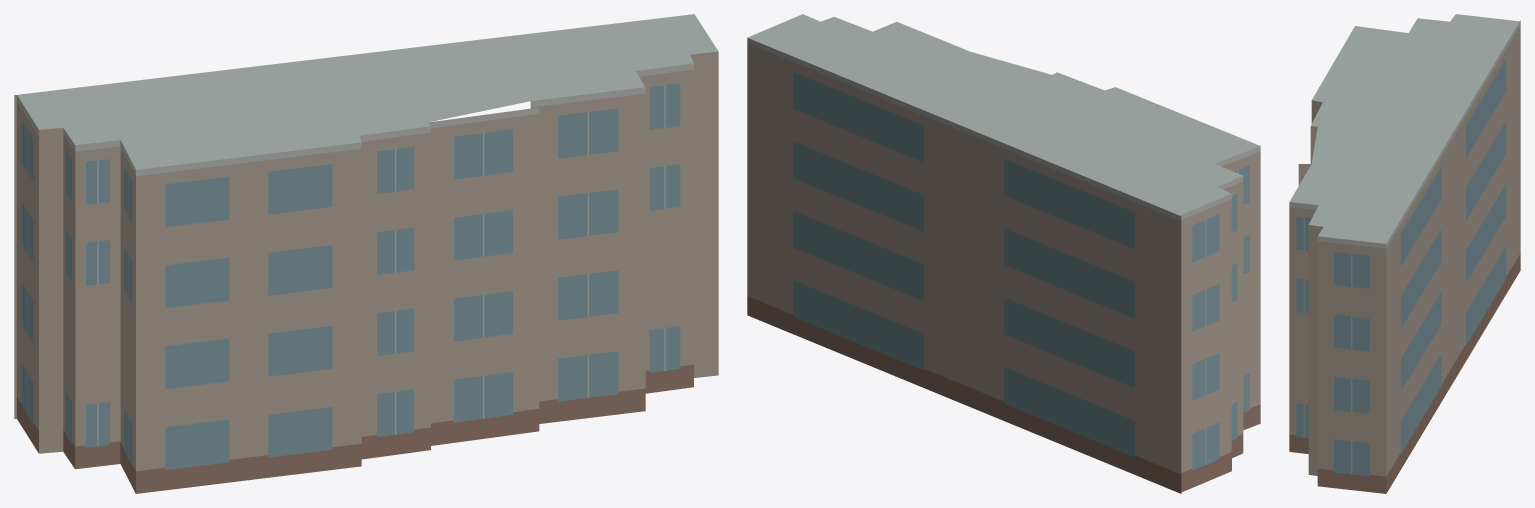
File: survey-upis-32622168.glb
3 renders of one model, left to right at view 1: azimuth 30°, elevation 25°; view 2: azimuth 150°, elevation 25°; view 3: azimuth 270°, elevation 25°, orthographic. The views are drawn at different scales.
Visible parts, largest first — view 1: survey-upis-32622168.tmp; view 2: survey-upis-32622168.tmp; view 3: survey-upis-32622168.tmp.
Boxes of the visible parts, box(x1,y1,x2,y2) form: survey-upis-32622168.tmp: box(14, 14, 718, 493); survey-upis-32622168.tmp: box(747, 14, 1260, 493); survey-upis-32622168.tmp: box(1289, 14, 1520, 493).
Size of the model in its own units: 24.66 by 12.5 by 10.48.
